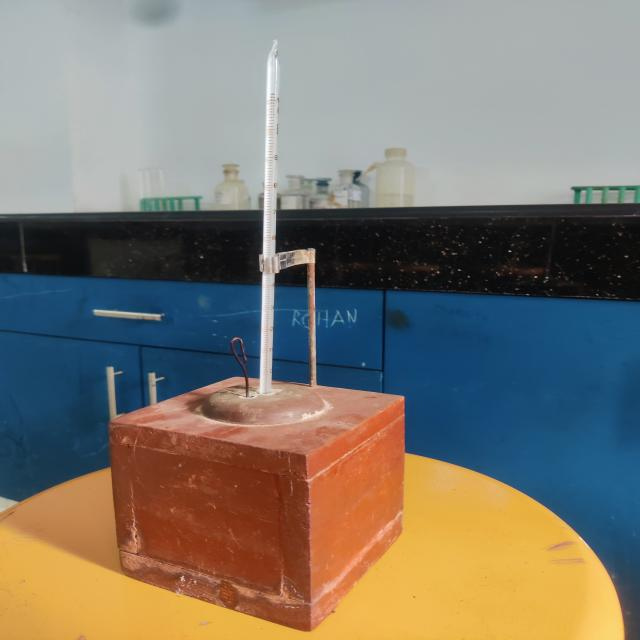Calorimeter: (88, 35, 464, 635)
